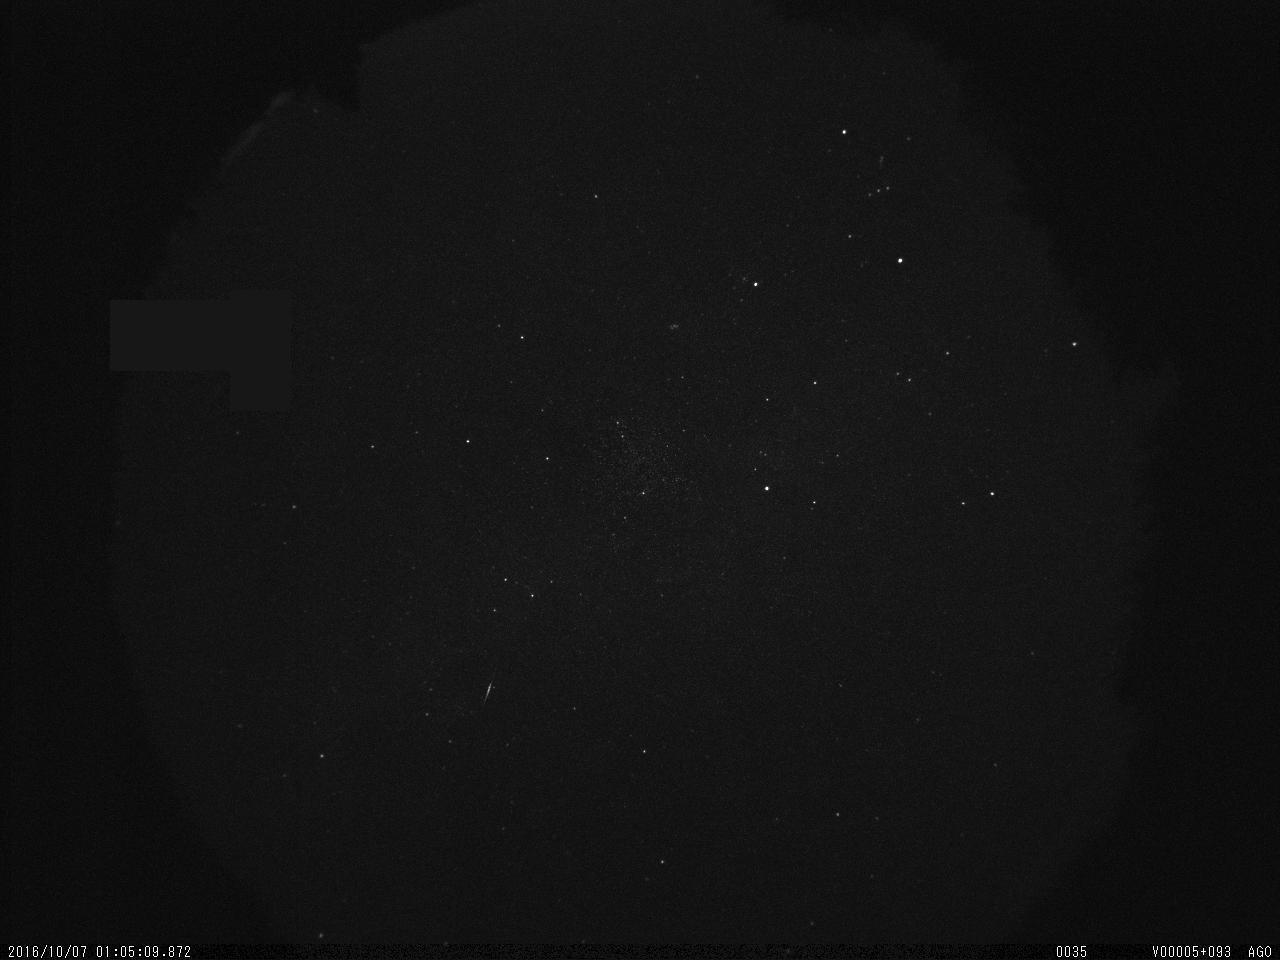Meteor: (479, 668, 501, 716)
